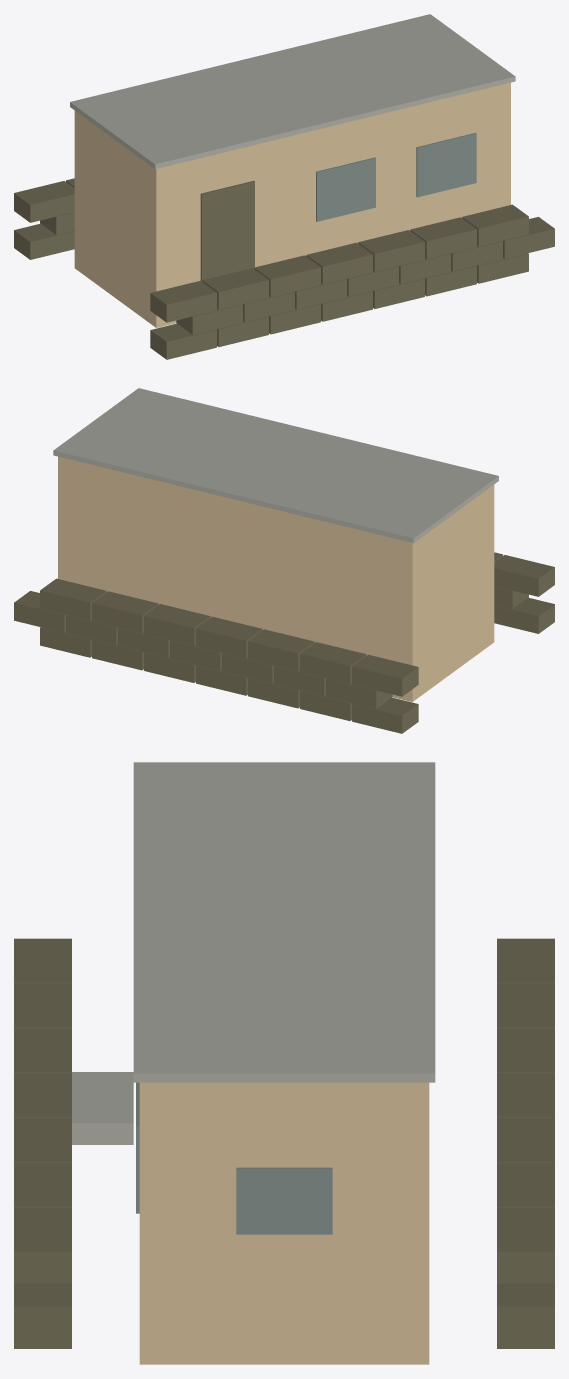
Rendered from SM_Caseta_v3_Sacos_LOD1.fbx.
The picture shows the model from 3 angles, top to bottom: view 1: azimuth 30°, elevation 25°; view 2: azimuth 150°, elevation 25°; view 3: azimuth 270°, elevation 25°; orthographic projection. The views are drawn at different scales.
Visible parts, largest first — view 1: SM_ambiente_aerodromo_v13_LOD1; view 2: SM_ambiente_aerodromo_v13_LOD1; view 3: SM_ambiente_aerodromo_v13_LOD1.
Boxes of the visible parts, x1,y1,x2,y2 form: SM_ambiente_aerodromo_v13_LOD1: (14,14,554,359); SM_ambiente_aerodromo_v13_LOD1: (14,388,554,733); SM_ambiente_aerodromo_v13_LOD1: (14,762,554,1364).
Bounding box in the file's own units: 6.57 × 2.68 × 4.48.
